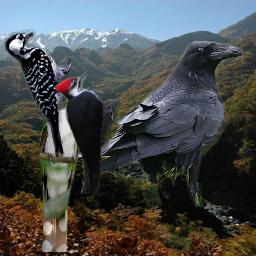Crow: (73, 41, 243, 207)
Cuckoo: (38, 97, 101, 252)
Woodpecker: (4, 28, 71, 157), (53, 71, 122, 194)
